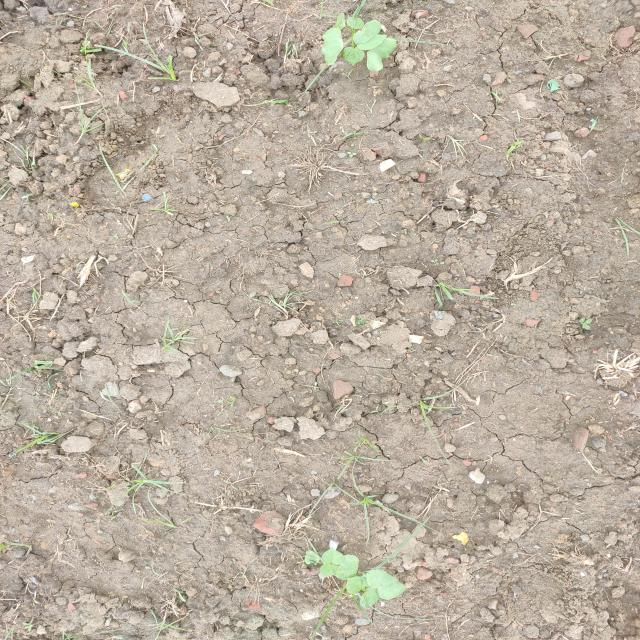seedling: (366, 570, 406, 600), (367, 38, 396, 72), (321, 27, 344, 65), (353, 20, 382, 43), (337, 555, 359, 580), (355, 35, 387, 50), (341, 47, 364, 66), (360, 587, 380, 608), (321, 547, 344, 565), (346, 576, 368, 594), (320, 564, 338, 579), (304, 549, 320, 564), (333, 13, 346, 30), (347, 17, 364, 29)
